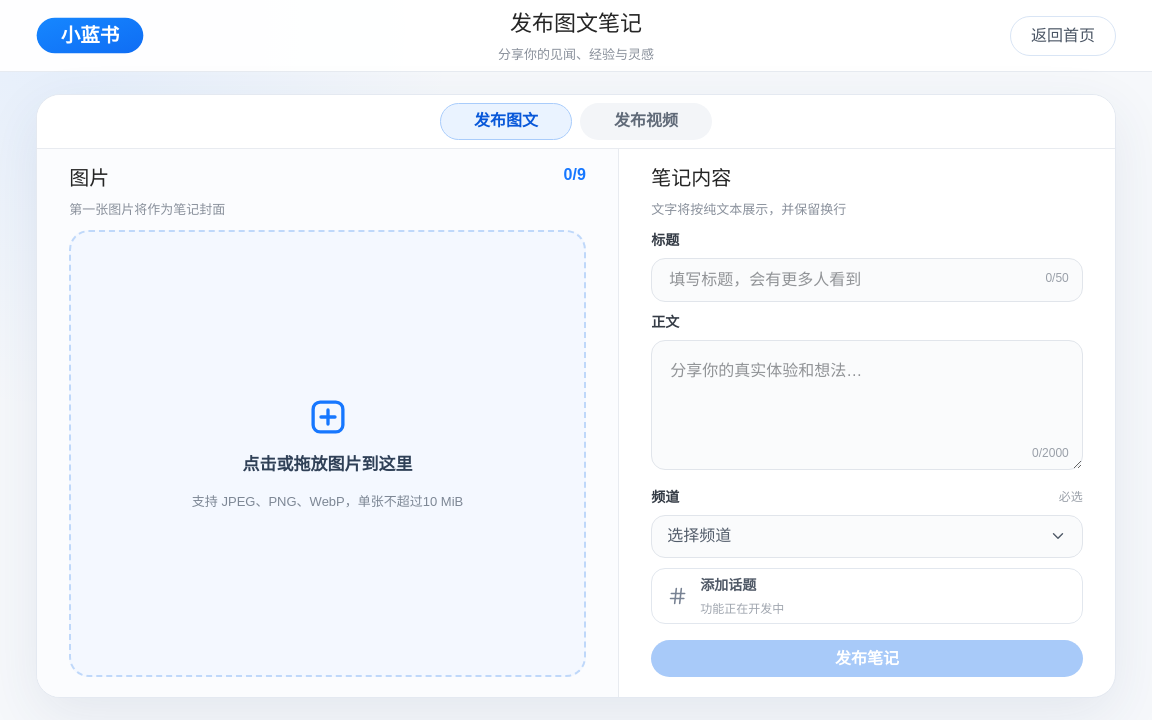
Test: PublishPage › requires one server-provided channel and supports keyboard selection
This screenshot has width=1152, height=720.
Expected: the heading "发布图文笔记" is shown, [510,11,642,36]
Expected: the text "必选" is shown, [1059,488,1083,506]
Click the button "选择频道".
click(699, 536)  # box [651,515,1083,558]
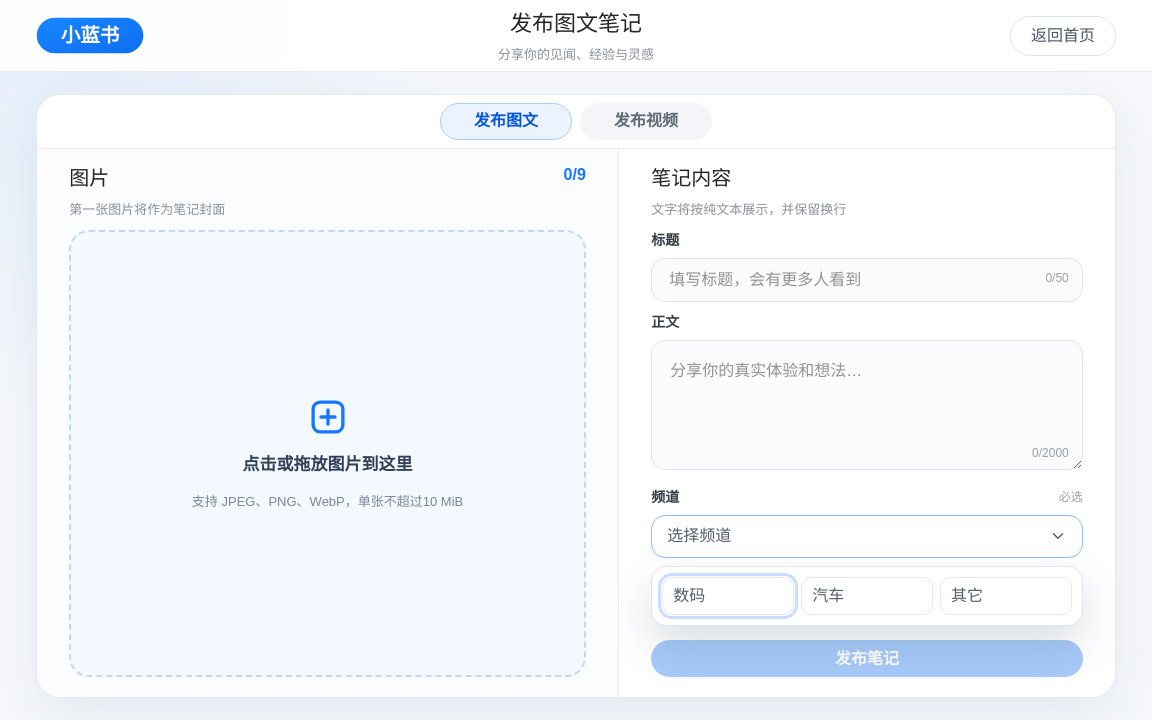
Press ArrowRight in the radio button labelled "数码", box [662,577,794,615]
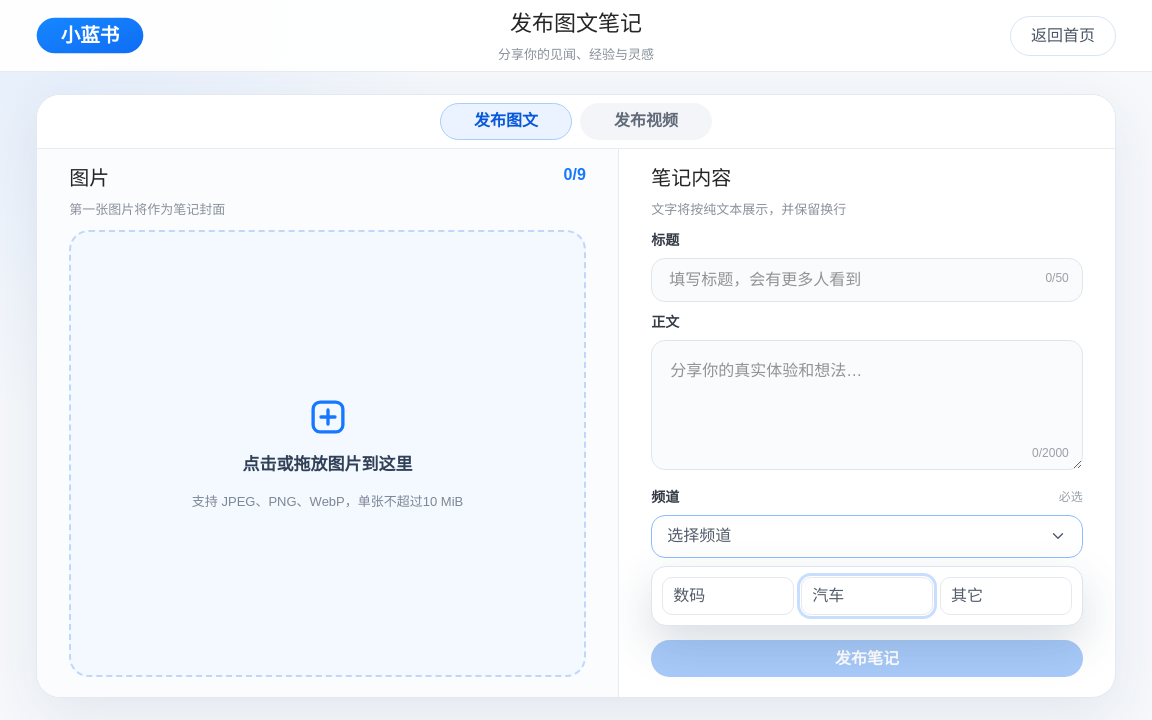
Press Escape in the radio button labelled "汽车", box [801,577,933,615]
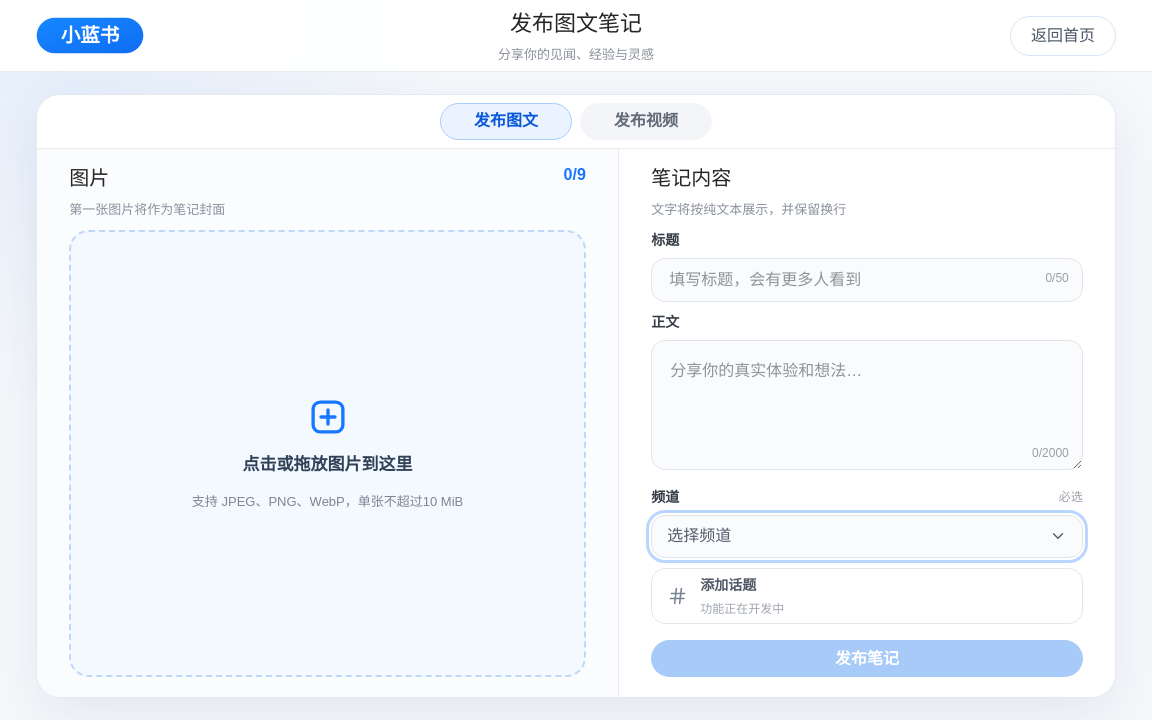
Click the button "选择频道".
click(699, 536)  # box [651,515,1083,558]
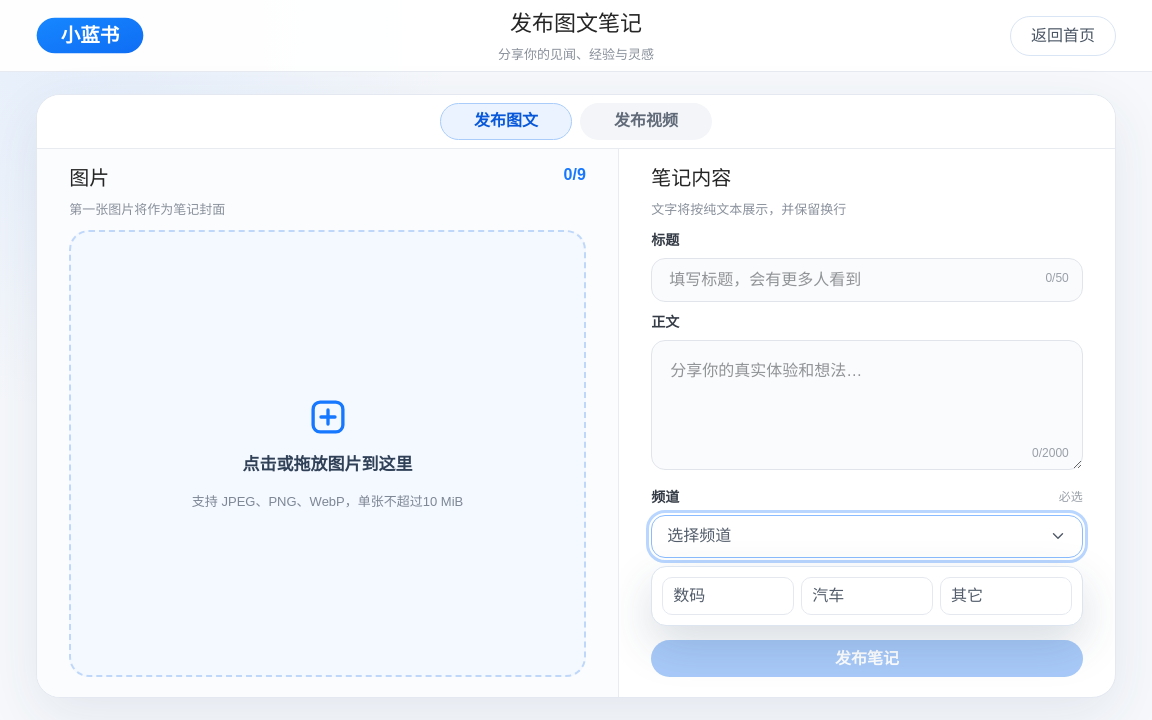
Click the radio button labelled "其它".
click(1006, 596)  # box [940,577,1072,615]
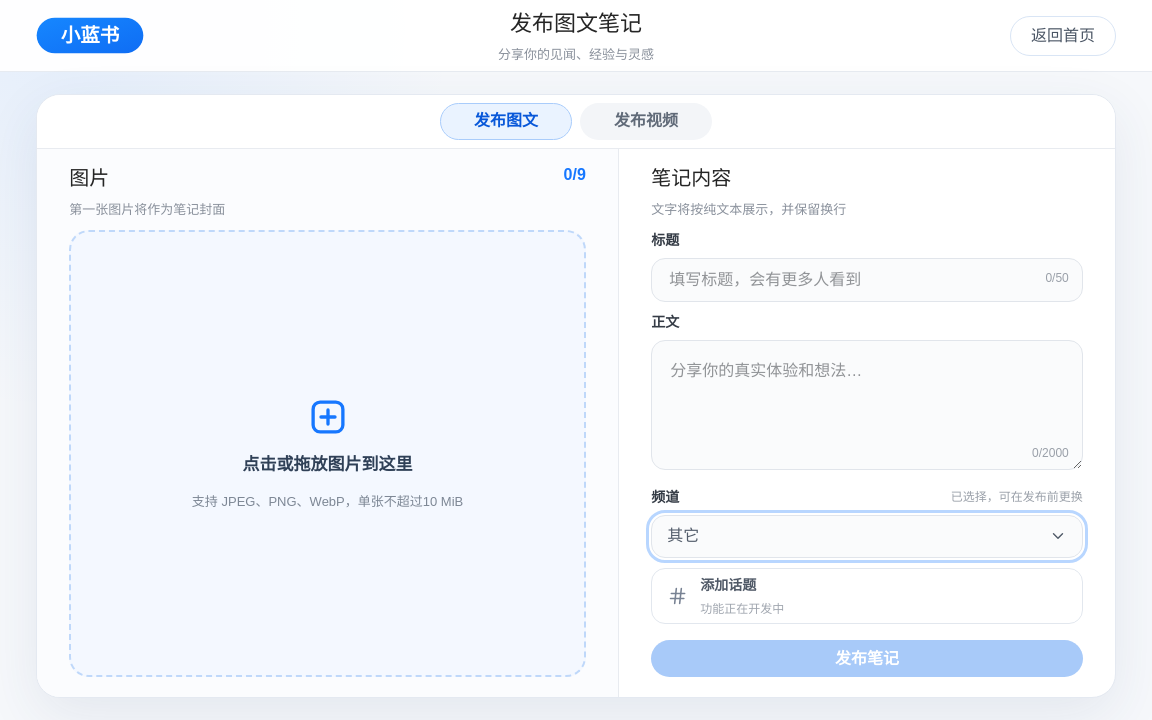
Expected: the button named "选择频道" reads "其它", [651,515,1083,558]
Expected: the text "已选择，可在发布前更换" is shown, [951,488,1083,506]
